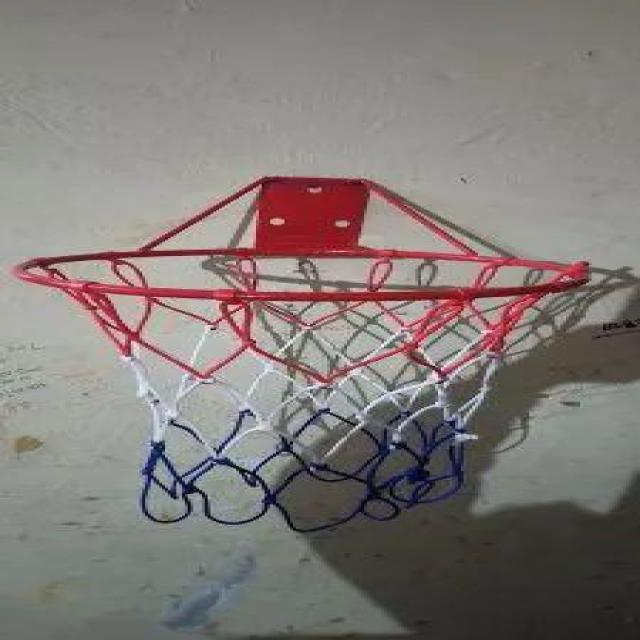hoop: (0, 218, 640, 551)
